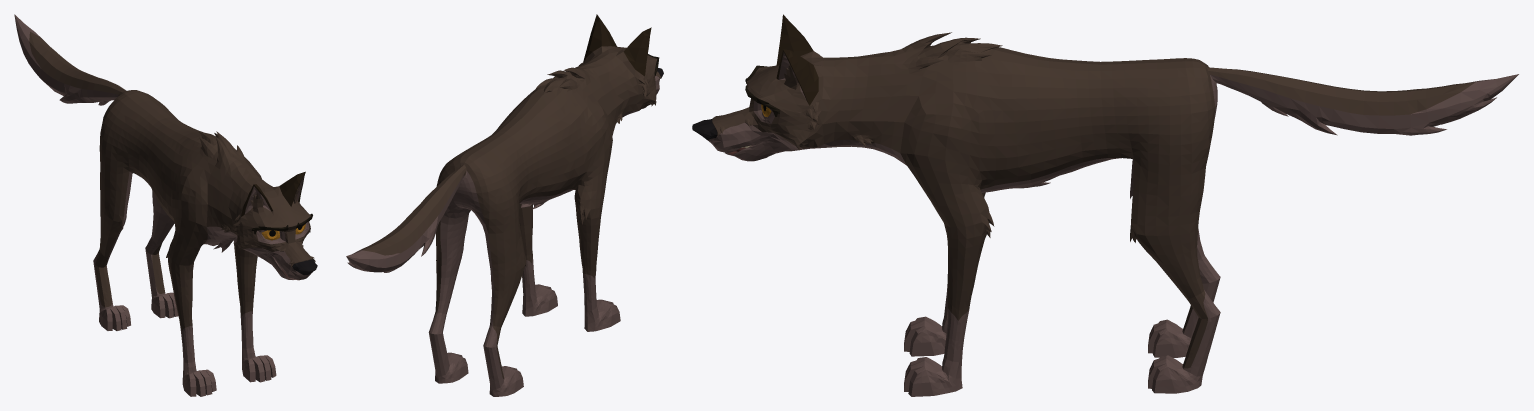
Rendered from dog.obj.
3 renders of one model, left to right at view 1: azimuth 30°, elevation 25°; view 2: azimuth 150°, elevation 25°; view 3: azimuth 270°, elevation 25°, orthographic. The views are drawn at different scales.
Visible parts, largest first — view 1: g3_only_bal16; view 2: g3_only_bal16; view 3: g3_only_bal16.
Part boxes in pixels (x1,y1,x2,y2): g3_only_bal16: [14, 14, 317, 396]; g3_only_bal16: [346, 14, 663, 396]; g3_only_bal16: [692, 14, 1518, 396].
Bounding box in the file's own units: 38.46 × 104 × 231.
